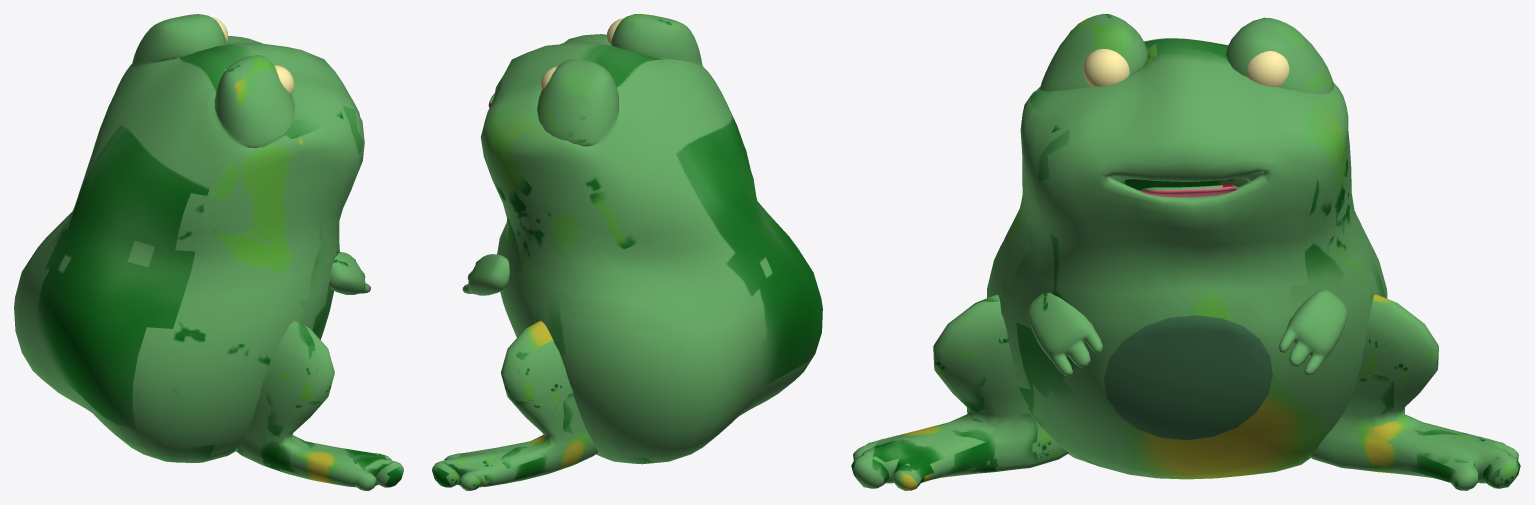
File: Frog(6).fbx
The picture shows the model from 3 angles, left to right: view 1: azimuth 30°, elevation 25°; view 2: azimuth 150°, elevation 25°; view 3: azimuth 270°, elevation 25°; orthographic projection. The views are drawn at different scales.
Parts seen in each view (by area): view 1: frog; view 2: frog; view 3: frog.
Boxes of the visible parts, x1=… form: frog: x1=14, y1=14, x2=403, y2=490; frog: x1=432, y1=14, x2=822, y2=490; frog: x1=851, y1=14, x2=1520, y2=490.
Bounding box in the file's own units: 49.49 × 62.93 × 82.46.
